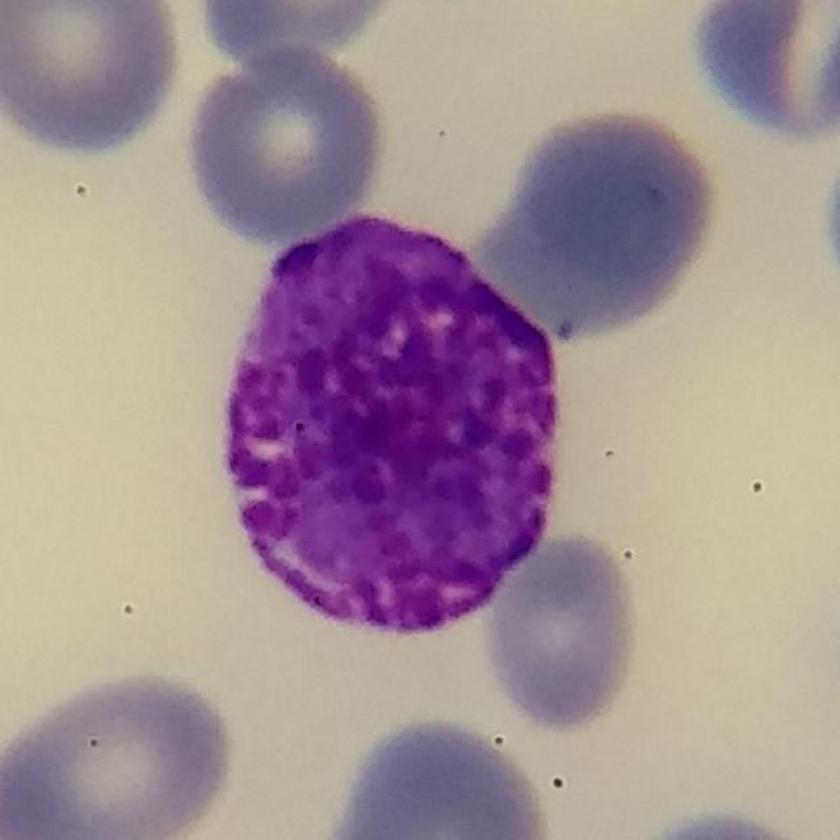basophil: (228, 206, 562, 634)
